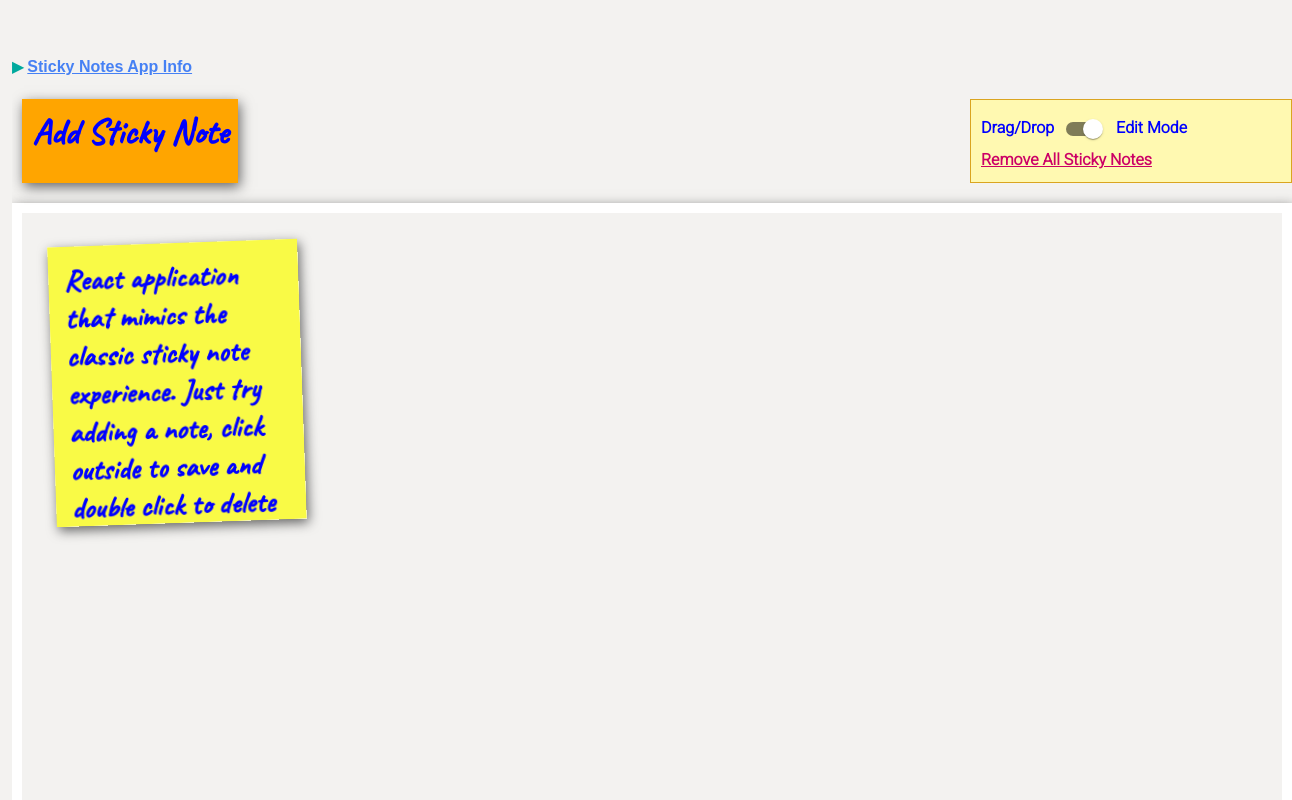
Test: Add a sticky note and see it is adding a new sticky note with empty text
The width and height of the screenshot is (1292, 800).
Click the button "Add Sticky Note". click: (130, 141)
box: top-left (22, 99), bottom-right (238, 183)
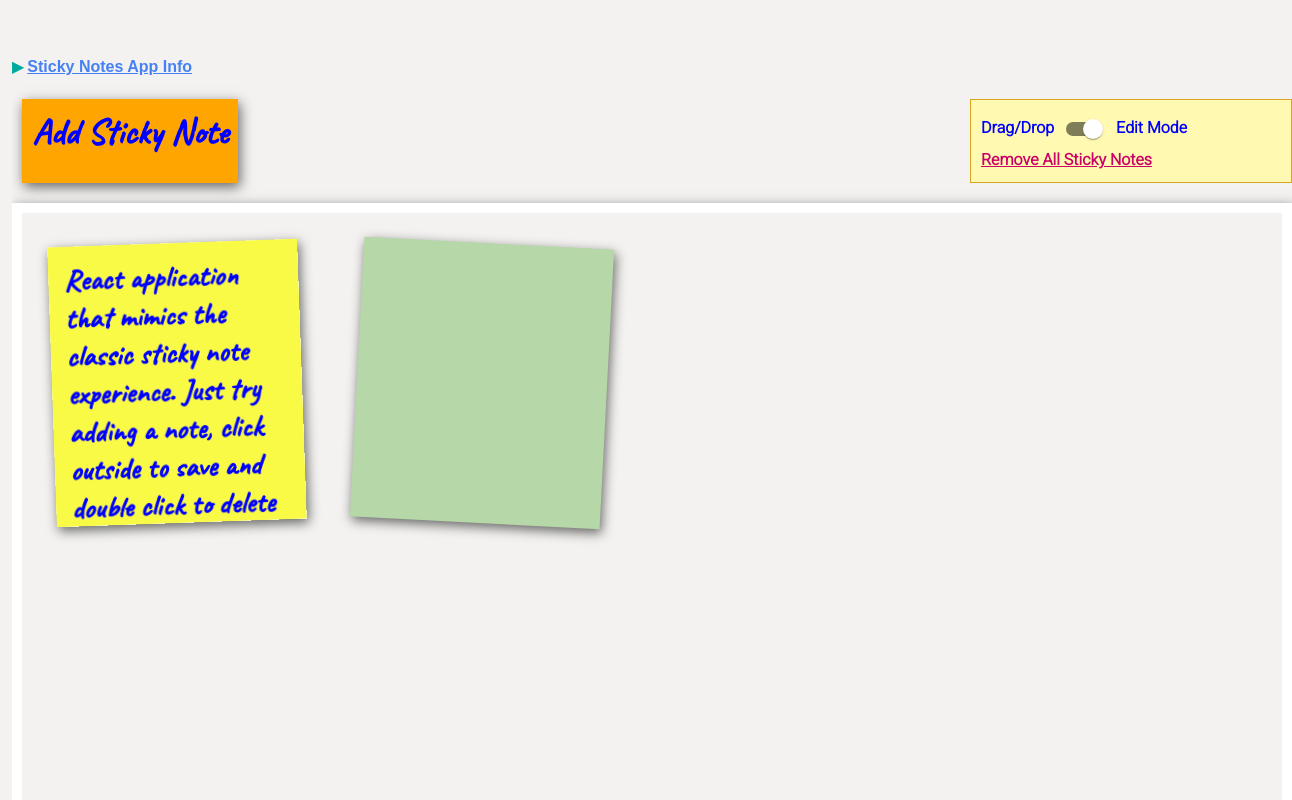
Expected: the number of text boxes is 2, top-left (47, 239), bottom-right (307, 527); top-left (350, 237), bottom-right (614, 529)
